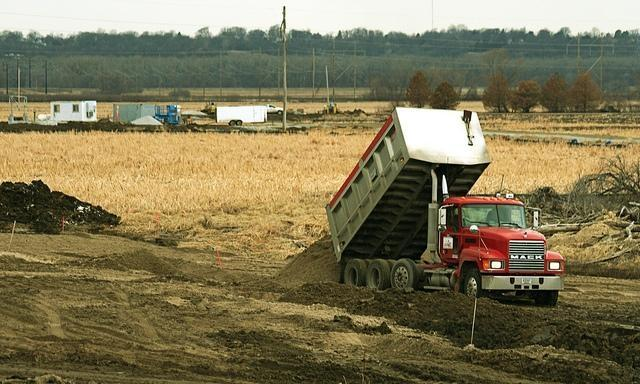truck: (325, 106, 566, 306), (113, 104, 182, 125), (267, 104, 284, 114)
